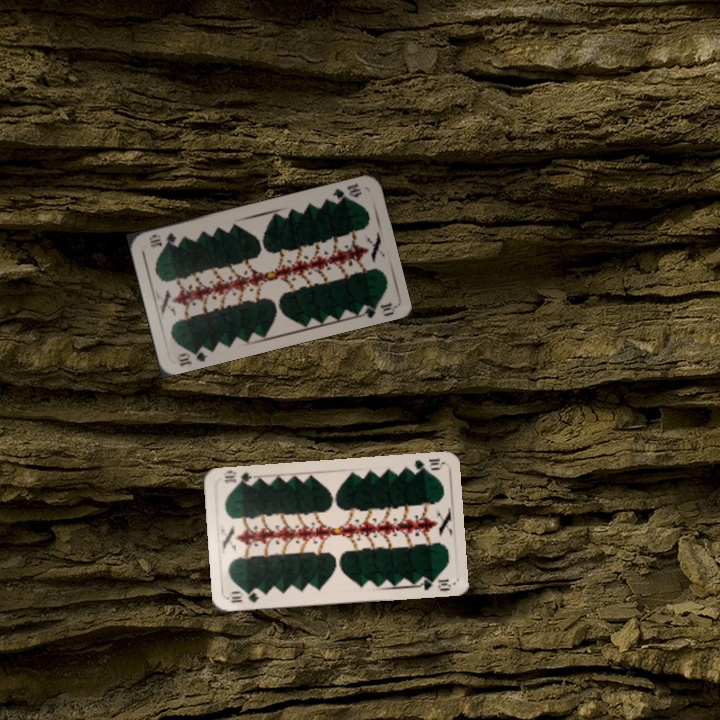G10: (175, 343, 212, 369), (328, 180, 364, 205), (405, 454, 445, 475), (225, 588, 262, 605)
